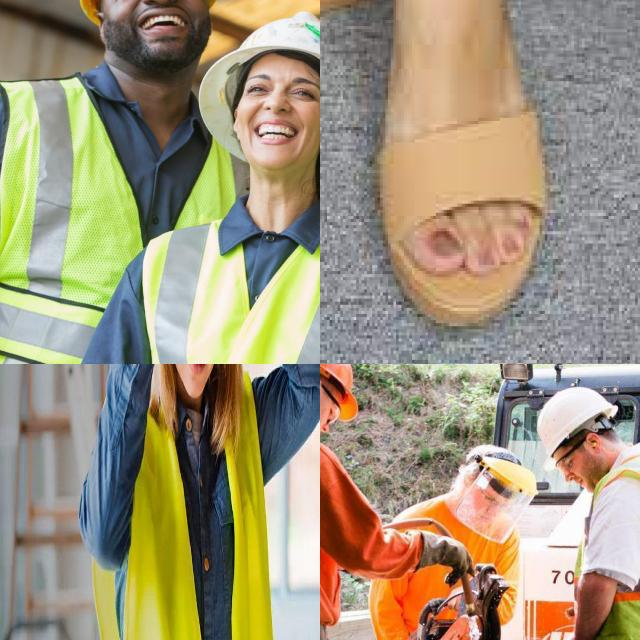Sandals: (384, 0, 550, 332)
face_mask: (458, 443, 534, 546)
face_nomask: (220, 62, 320, 172), (96, 0, 212, 79), (550, 430, 596, 494), (320, 379, 339, 444)
hand_glove: (422, 524, 479, 604)
head_helmet: (202, 14, 320, 89), (531, 393, 624, 453), (320, 364, 374, 424)
person: (0, 0, 229, 364), (141, 17, 320, 364), (90, 364, 285, 640), (370, 419, 532, 640), (523, 364, 640, 640)
vest: (0, 70, 241, 364), (98, 378, 313, 640), (104, 207, 320, 364), (571, 469, 640, 640)
